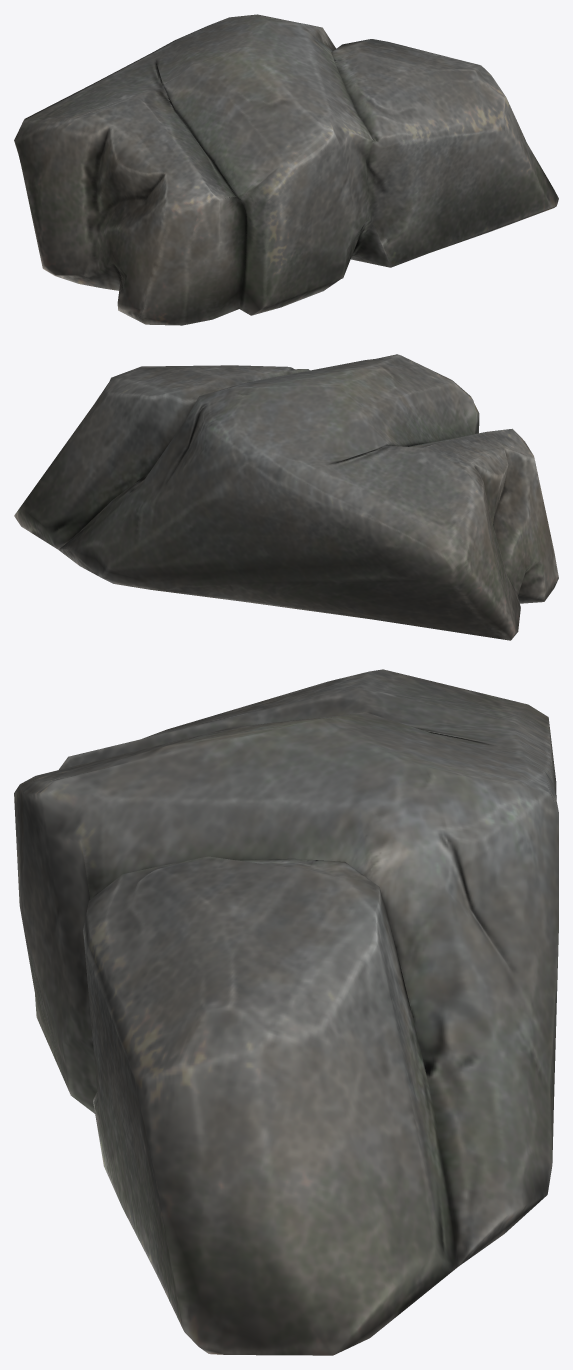
Rendered from rock.glb.
3 views of the same model, one above another, from view 1: azimuth 30°, elevation 25°; view 2: azimuth 150°, elevation 25°; view 3: azimuth 270°, elevation 25° (orthographic). The views are drawn at different scales.
Visible parts, largest first — view 1: Rock_Low_Poly; view 2: Rock_Low_Poly; view 3: Rock_Low_Poly.
Part boxes in pixels (box(x1,y1,x2,y2)): Rock_Low_Poly: box(14, 14, 558, 325); Rock_Low_Poly: box(14, 354, 558, 640); Rock_Low_Poly: box(14, 669, 558, 1355).
Bounding box in the file's own units: 1.85 × 0.7467 × 0.97.
1 material, 1 textured.
